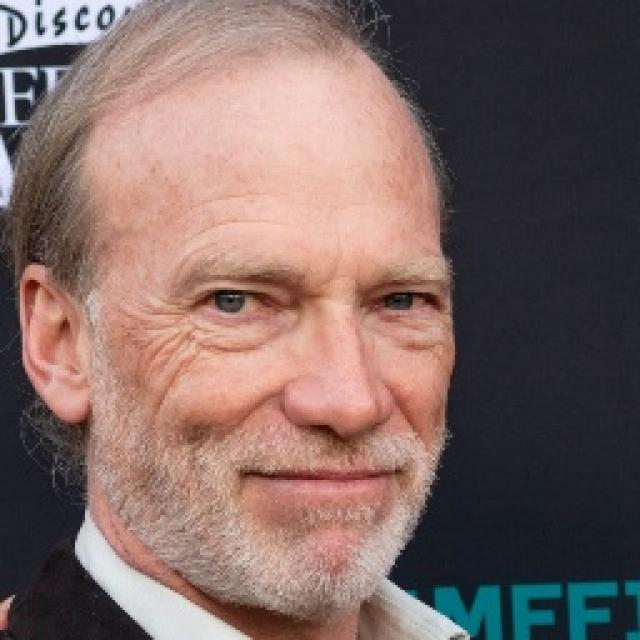earlobe: (44, 371, 94, 425)
eye: (194, 282, 279, 321), (372, 286, 442, 319)
nose: (285, 418, 379, 462)
wholeear: (18, 265, 93, 426)
